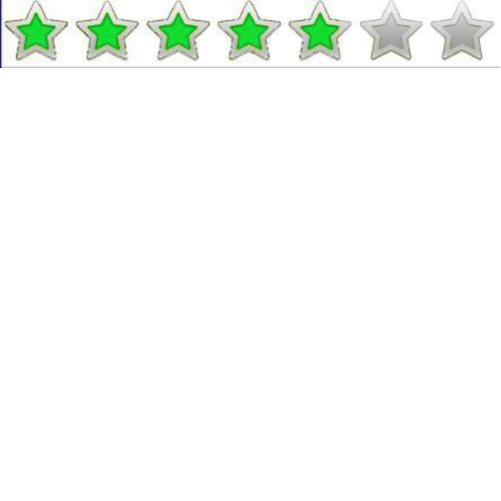RatingBar: (1, 1, 500, 63)
